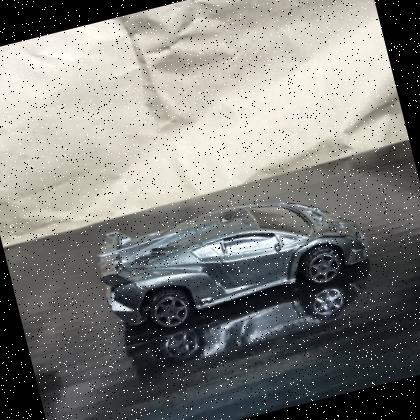Car: (83, 165, 384, 349)
